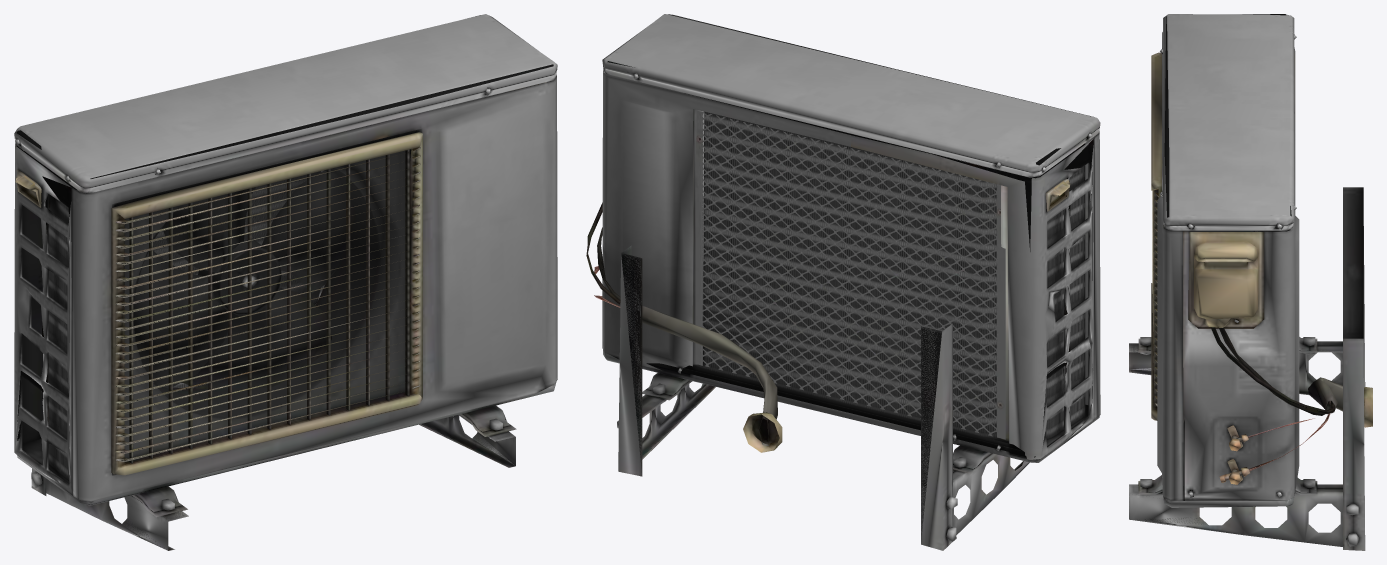
Rendered from aircon_unit.glb.
The picture shows the model from 3 angles, left to right: view 1: azimuth 30°, elevation 25°; view 2: azimuth 150°, elevation 25°; view 3: azimuth 270°, elevation 25°; orthographic projection. The views are drawn at different scales.
Parts seen in each view (by area): view 1: aircon_unit; view 2: aircon_unit; view 3: aircon_unit.
Boxes of the visible parts, x1,y1,x2,y2 form: aircon_unit: [14, 14, 557, 550]; aircon_unit: [586, 14, 1100, 550]; aircon_unit: [1129, 14, 1372, 550].
Bounding box in the file's own units: 0.7965 × 0.6079 × 0.3742.
Materials: 2 (2 with a texture image).
